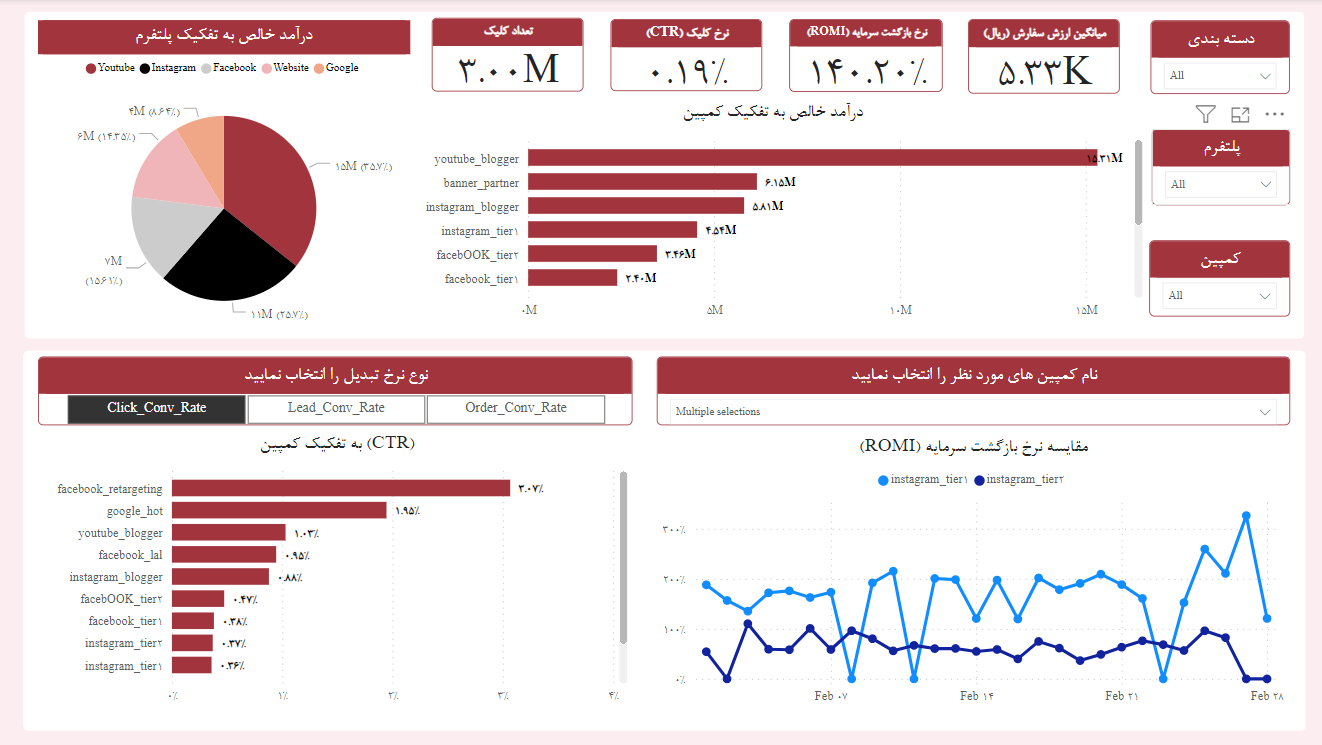

What the dashboard file says about the page in this screenshot:
{"tool":"powerbi","page":{"name":"ff","canvas":[1280,720],"ordinal":1},"visuals":[{"type":"shape","box":[24.8,12.4,1235.2,315.7],"z":0},{"type":"shape","box":[485,340.5,492.2,328.1],"z":1000},{"type":"shape","box":[23.6,338.9,1237.8,367.4],"z":2000},{"type":"lineChart","title":"(ROMI) مقایسه نرخ بازگشت سرمایه ","fields":{"Category":["Marketing.c_date"],"Series":["Marketing.campaign_name"],"Y":["Measures (2).ROMI"]},"box":[635.6,417.5,611,276],"z":3000},{"type":"slicer","title":"نام کمپین های مورد نظر را انتخاب نمایید","fields":{"Values":["Marketing.campaign_name"]},"box":[635.8,344.9,610.9,66.5],"z":4000},{"type":"card","title":" تعداد کلیک","fields":{"Values":["Sum(Marketing.clicks)"]},"box":[418.5,18.6,146.3,70.9],"z":5000},{"type":"barChart","fields":{"Category":["Marketing.campaign_name"],"Y":["Measures (2).DYNAMIC_MSR"]},"box":[39.3,411.6,573.7,281.9],"z":6000},{"type":"slicer","title":"نوع نرخ تبدیل را انتخاب نمایید","fields":{"Values":["engagment.type"]},"box":[39,344.9,573.7,66.5],"z":7000},{"type":"card","title":" (ROMI) نرخ بازگشت سرمایه ","fields":{"Values":["Measures (2).ROMI"]},"box":[763.1,19.5,148.3,70.7],"z":8000},{"type":"card","title":"میانگین ارزش سفارش (ریال)","fields":{"Values":["Measures (2).rev_avg"]},"box":[935.5,19.5,146.3,71.8],"z":9000},{"type":"slicer","title":"دسته بندی","fields":{"Values":["Marketing.category"]},"box":[1111.9,20.4,134.8,70.9],"z":10000},{"type":"card","title":"(CTR) نرخ کلیک ","fields":{"Values":["Measures (2).ctr"]},"box":[591.2,19.5,146.4,69.7],"z":11000},{"type":"barChart","title":"درآمد خالص به تفکیک کمپین","fields":{"Y":["Sum(Marketing.revenue)"],"Category":["Marketing.campaign_name"]},"box":[383.9,91.2,726.9,229.9],"z":12000},{"type":"pieChart","title":"درآمد خالص به تفکیک پلتفرم","fields":{"Category":["Marketing.platform"],"Y":["Sum(Marketing.revenue)"]},"box":[39,20.4,359.1,307.7],"z":13000},{"type":"slicer","title":"پلتفرم","fields":{"Values":["Marketing.platform"]},"box":[1112.8,125.9,133.9,73.6],"z":14000},{"type":"slicer","title":"کمپین","fields":{"Values":["Marketing.campaign_name"]},"box":[1111,233.2,135.7,73.6],"z":15000}]}

Visuals, with their boxes in screenshot pixels (x1, y1, x2, y2), scaled from the page's 1280x720 canvas onto the 1322x745 screenshot:
shape: [x1=26, y1=13, x2=1301, y2=339]
shape: [x1=501, y1=352, x2=1009, y2=692]
shape: [x1=24, y1=351, x2=1303, y2=731]
"(ROMI) مقایسه نرخ بازگشت سرمایه " lineChart: [x1=656, y1=432, x2=1288, y2=718]
"نام کمپین های مورد نظر را انتخاب نمایید" slicer: [x1=657, y1=357, x2=1288, y2=426]
" تعداد کلیک" card: [x1=432, y1=19, x2=583, y2=93]
barChart - Marketing.campaign_name x Measures (2).DYNAMIC_MSR: [x1=41, y1=426, x2=633, y2=718]
"نوع نرخ تبدیل را انتخاب نمایید" slicer: [x1=40, y1=357, x2=633, y2=426]
" (ROMI) نرخ بازگشت سرمایه " card: [x1=788, y1=20, x2=941, y2=93]
"میانگین ارزش سفارش (ریال)" card: [x1=966, y1=20, x2=1117, y2=94]
"دسته بندی" slicer: [x1=1148, y1=21, x2=1288, y2=94]
"(CTR) نرخ کلیک " card: [x1=611, y1=20, x2=762, y2=92]
"درآمد خالص به تفکیک کمپین" barChart: [x1=396, y1=94, x2=1147, y2=332]
"درآمد خالص به تفکیک پلتفرم" pieChart: [x1=40, y1=21, x2=411, y2=339]
"پلتفرم" slicer: [x1=1149, y1=130, x2=1288, y2=206]
"کمپین" slicer: [x1=1147, y1=241, x2=1288, y2=317]
